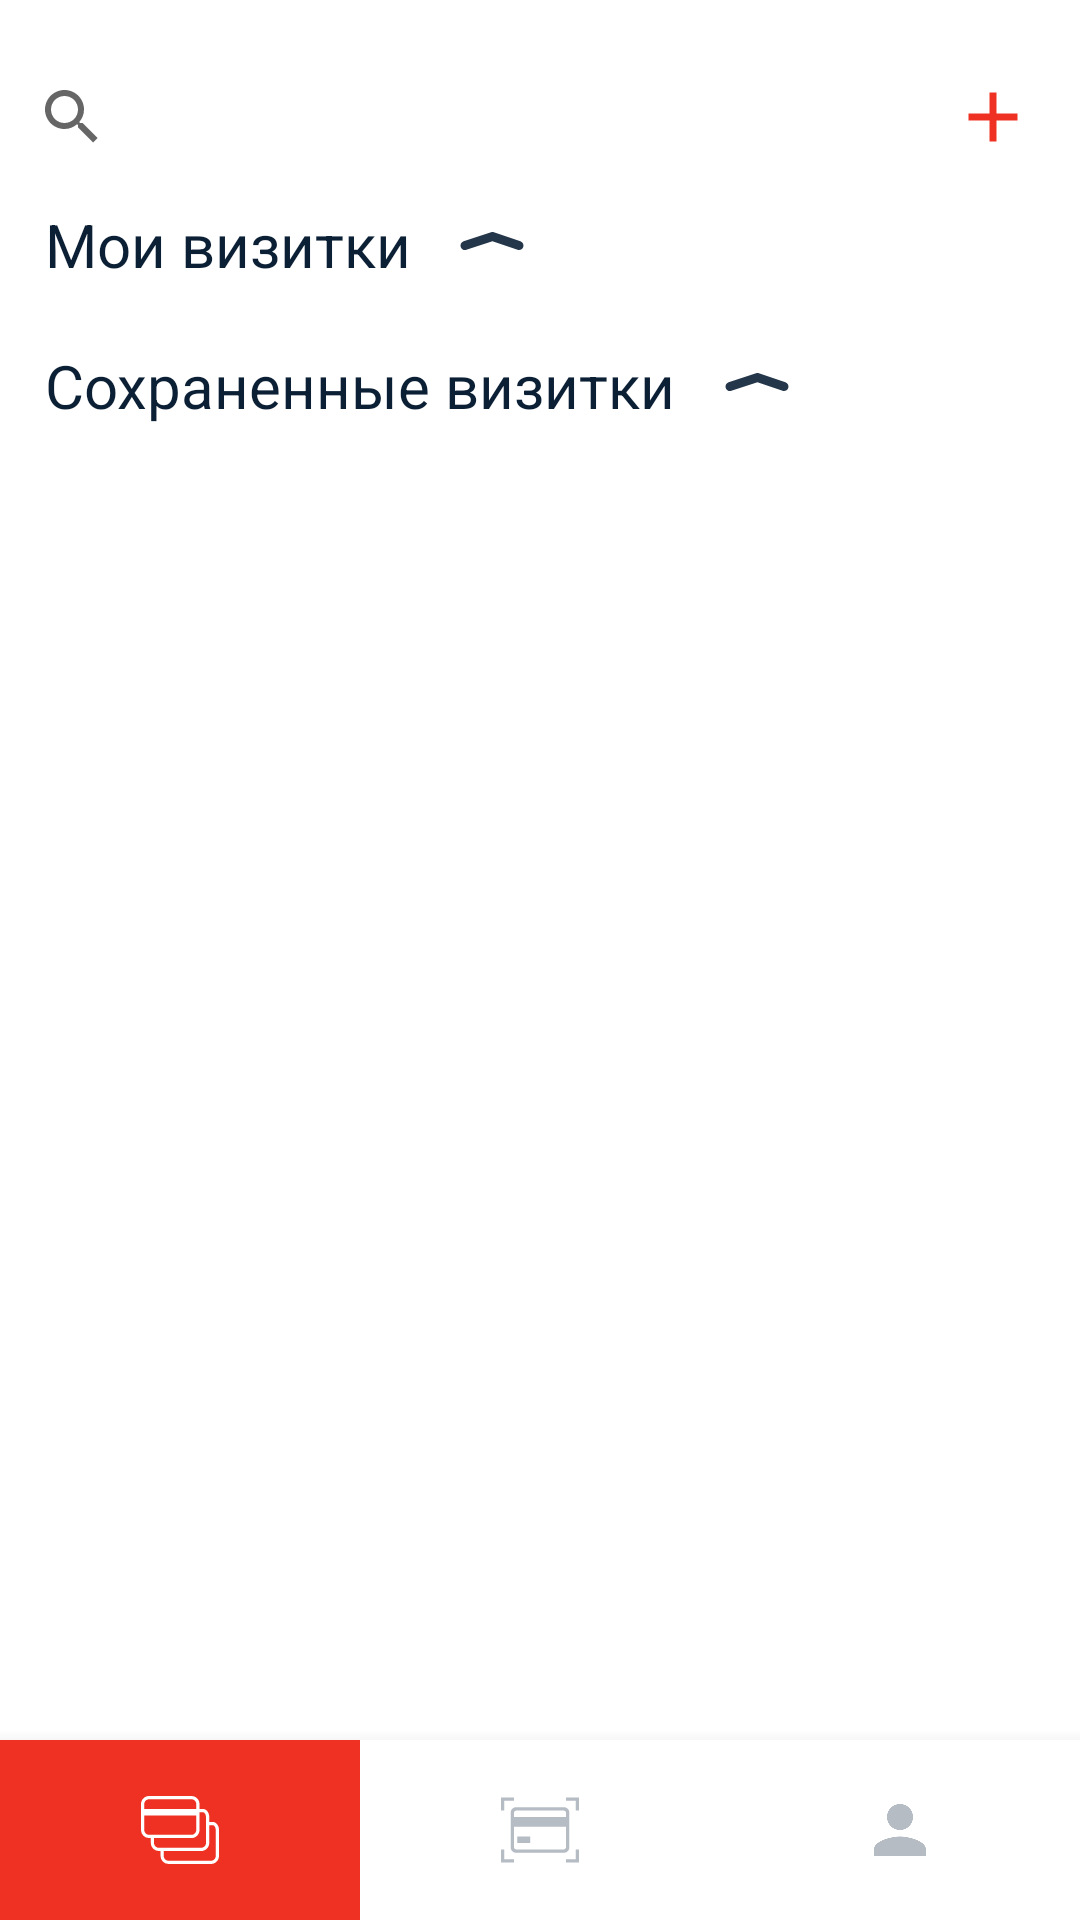

Where to tap for icons on this 1080*1920 app screen, as (x=x, y=y):
add: (x=993, y=117)
hide: (x=492, y=241), (x=757, y=382)
